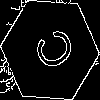C: (25, 25, 77, 78)
